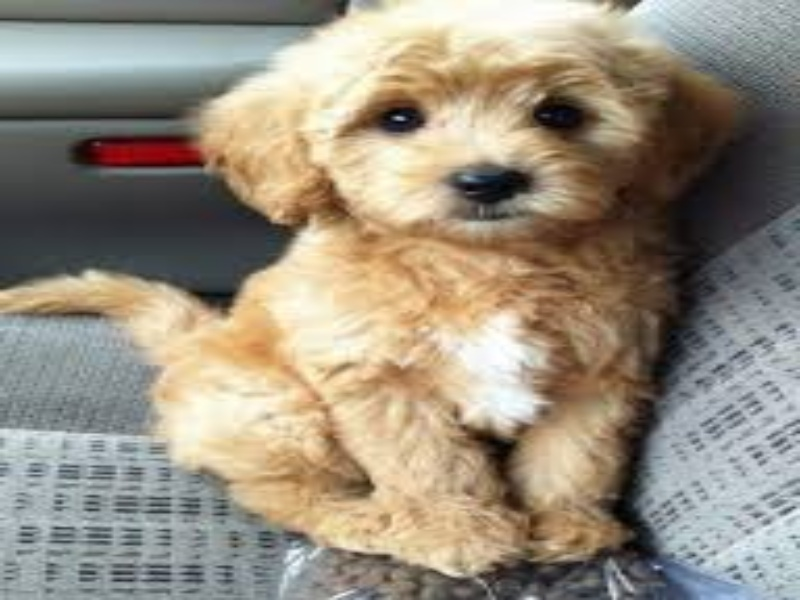dog: (36, 21, 794, 565)
